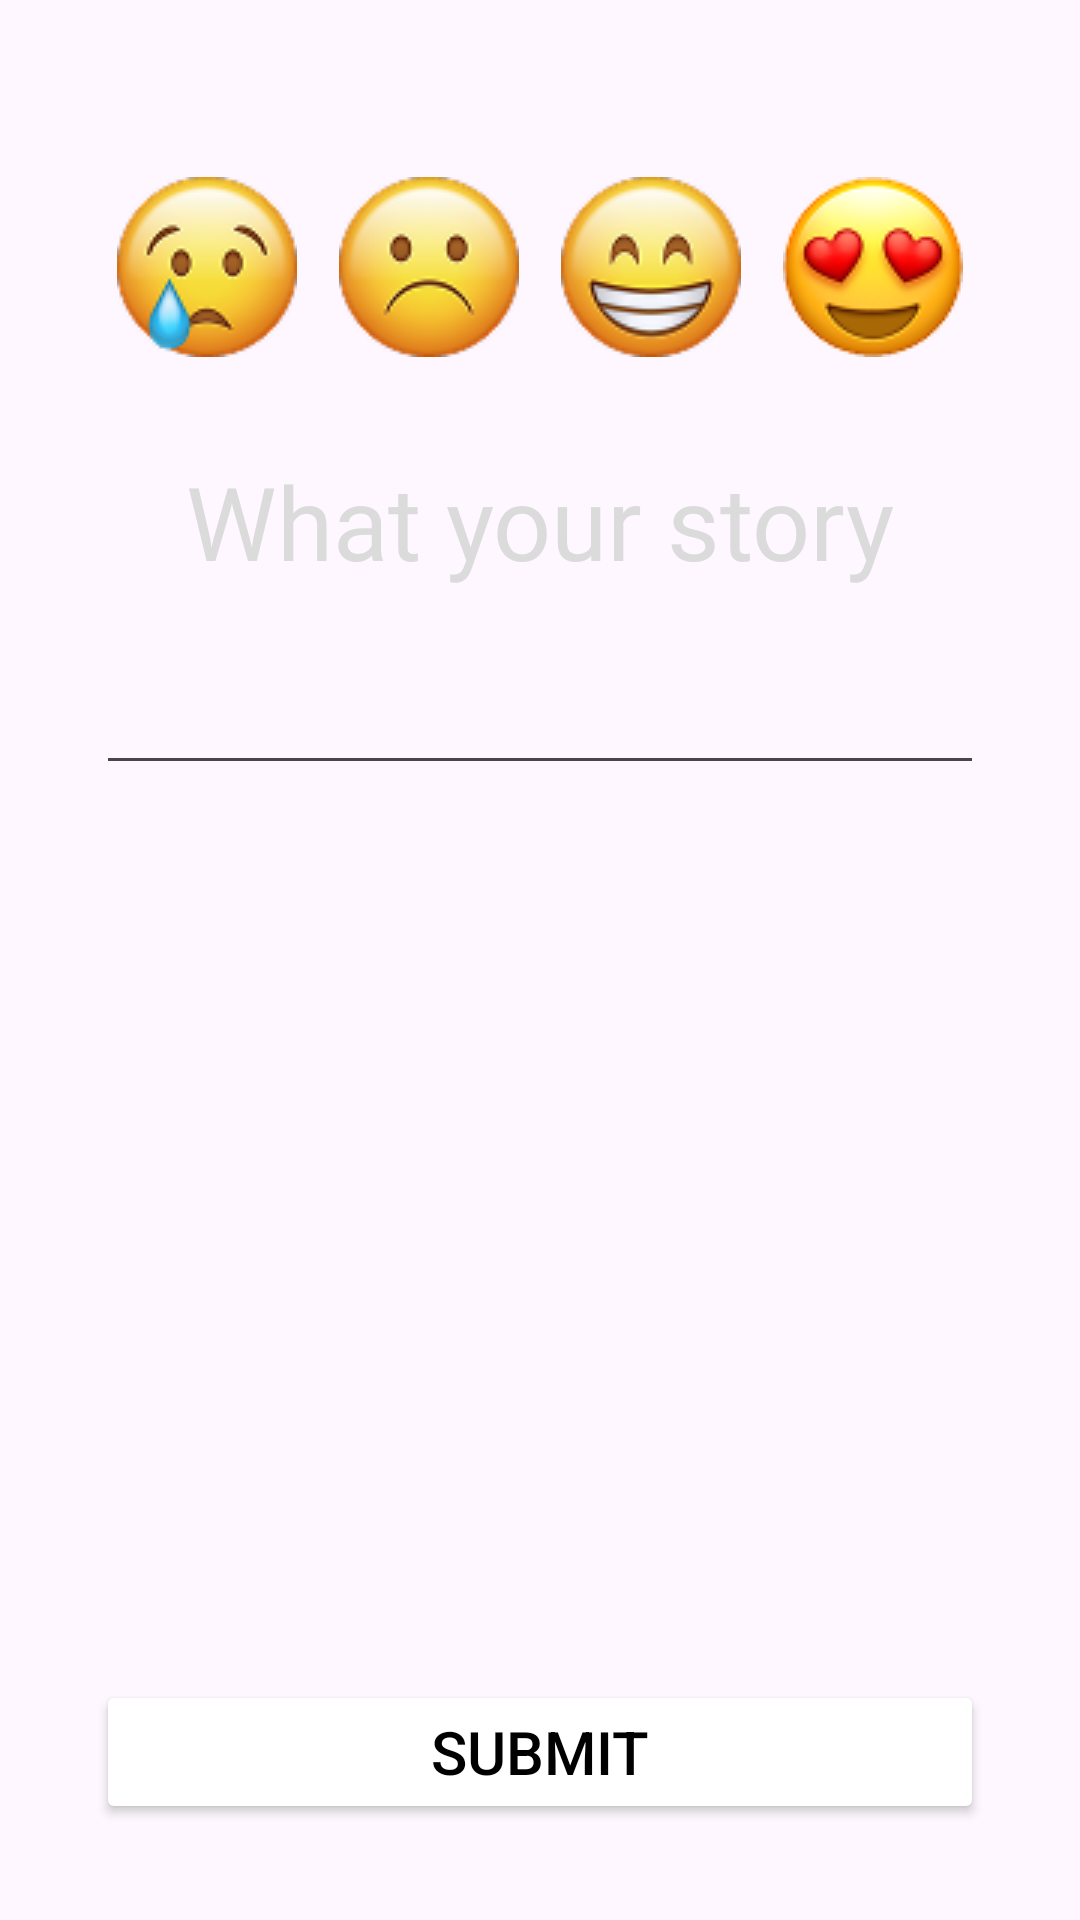

Icon click points for this 1080x1920 phone screenshot, format point (x, y):
happy: point (651, 267)
lovely: point (873, 267)
